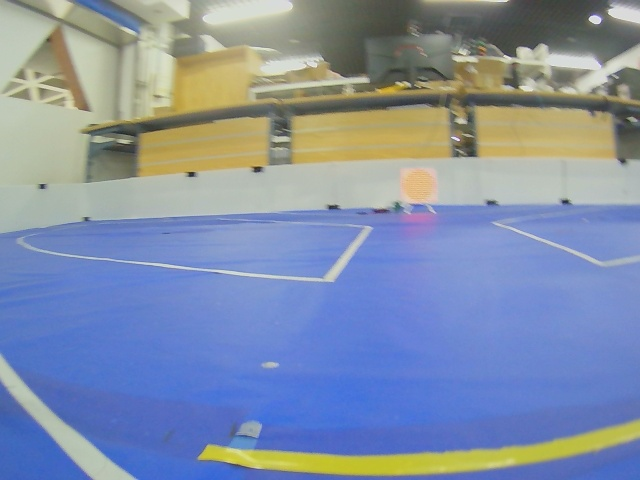red: (400, 168, 438, 204)
